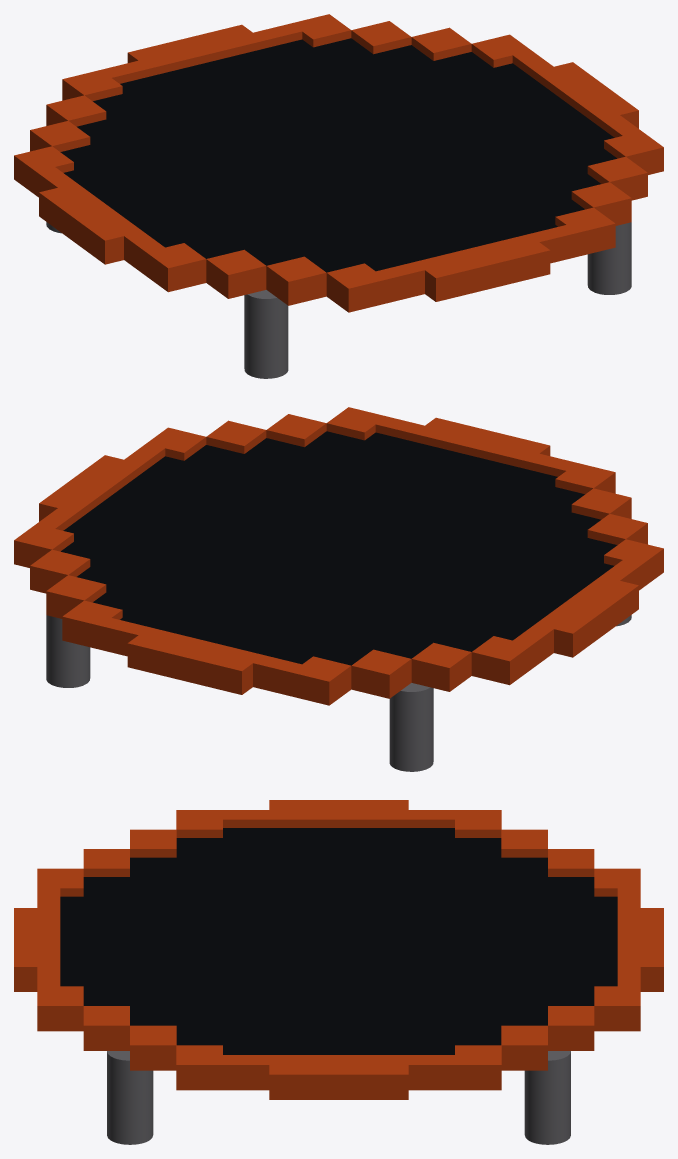
The model's file is tramp.obj.
3 views of the same model, one above another, from view 1: azimuth 30°, elevation 25°; view 2: azimuth 150°, elevation 25°; view 3: azimuth 270°, elevation 25° (orthographic). The views are drawn at different scales.
Visible parts, largest first — view 1: Bouncer5, Bouncer4, Bouncer3, Bouncer9, Bouncer11, Bouncer6, SmoothBlockModel49, SmoothBlockModel24, Bouncer8, SmoothBlockModel20, SmoothBlockModel16, Bouncer7 (+35 smaller); view 2: Bouncer5, Bouncer11, Bouncer3, Bouncer9, Bouncer4, SmoothBlockModel24, Bouncer7, SmoothBlockModel16, SmoothBlockModel49, Bouncer8, Bouncer6, Bouncer10 (+34 smaller); view 3: Bouncer5, Bouncer9, Bouncer4, Bouncer11, Bouncer3, SmoothBlockModel49, SmoothBlockModel26, Bouncer10, Bouncer6, Bouncer7, SmoothBlockModel44, Bouncer8 (+30 smaller).
Boxes of the visible parts, x1=… form: Bouncer5: x1=98, y1=57, x2=578, y2=260; Bouncer4: x1=93, y1=38, x2=372, y2=119; Bouncer3: x1=434, y1=52, x2=616, y2=173; Bouncer9: x1=60, y1=145, x2=235, y2=258; Bouncer11: x1=313, y1=199, x2=584, y2=272; Bouncer6: x1=77, y1=45, x2=421, y2=134; SmoothBlockModel49: x1=512, y1=50, x2=663, y2=167; SmoothBlockModel24: x1=127, y1=24, x2=263, y2=76; Bouncer8: x1=404, y1=53, x2=597, y2=186; SmoothBlockModel20: x1=425, y1=242, x2=550, y2=293; SmoothBlockModel16: x1=376, y1=225, x2=577, y2=295; Bouncer7: x1=264, y1=182, x2=600, y2=265; Bouncer5: x1=99, y1=450, x2=579, y2=653; Bouncer11: x1=305, y1=431, x2=584, y2=512; Bouncer3: x1=61, y1=445, x2=243, y2=566; Bouncer9: x1=442, y1=538, x2=617, y2=651; Bouncer4: x1=93, y1=592, x2=364, y2=665; SmoothBlockModel24: x1=127, y1=627, x2=263, y2=686; Bouncer7: x1=256, y1=438, x2=600, y2=527; SmoothBlockModel16: x1=375, y1=416, x2=576, y2=476; SmoothBlockModel49: x1=36, y1=427, x2=186, y2=530; Bouncer8: x1=80, y1=446, x2=273, y2=579; Bouncer6: x1=77, y1=575, x2=413, y2=658; Bouncer10: x1=404, y1=525, x2=590, y2=656; Bouncer5: x1=153, y1=867, x2=524, y2=1024; Bouncer9: x1=176, y1=838, x2=501, y2=857; Bouncer4: x1=548, y1=877, x2=594, y2=1005; Bouncer11: x1=83, y1=877, x2=129, y2=1005; Bouncer3: x1=176, y1=1034, x2=501, y2=1053; SmoothBlockModel49: x1=176, y1=1055, x2=454, y2=1081; SmoothBlockModel26: x1=223, y1=810, x2=454, y2=827; Bouncer10: x1=153, y1=857, x2=524, y2=867; Bouncer6: x1=524, y1=857, x2=547, y2=1025; Bouncer7: x1=130, y1=857, x2=153, y2=1025; SmoothBlockModel44: x1=269, y1=1065, x2=408, y2=1091; Bouncer8: x1=153, y1=1024, x2=524, y2=1033.
Bounding box in the file's own units: 28 × 5.2 × 28.
